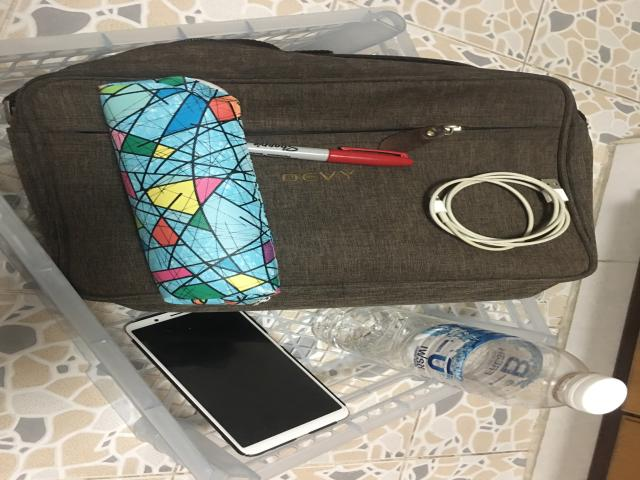Mobile phone: (125, 311, 348, 456)
Pen: (247, 142, 413, 166)
bottle: (312, 307, 625, 413)
wire: (428, 172, 570, 251)
